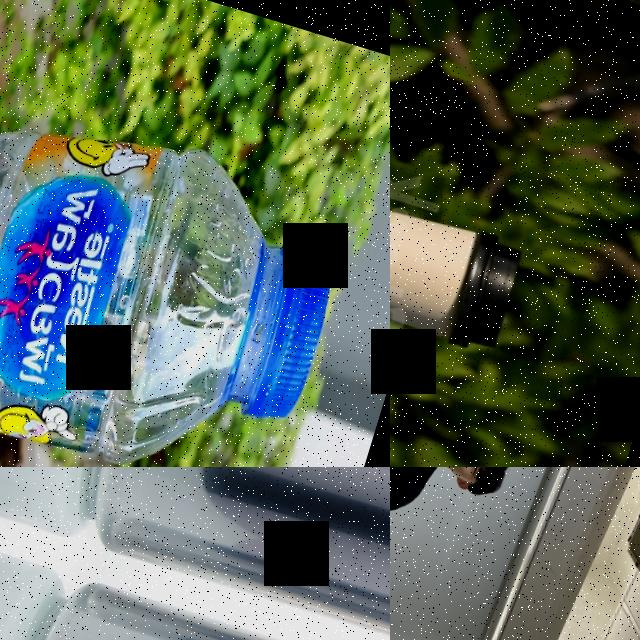bottle: (0, 35, 365, 467)
can: (68, 467, 390, 640), (0, 571, 390, 640)
cup: (390, 139, 528, 358)
